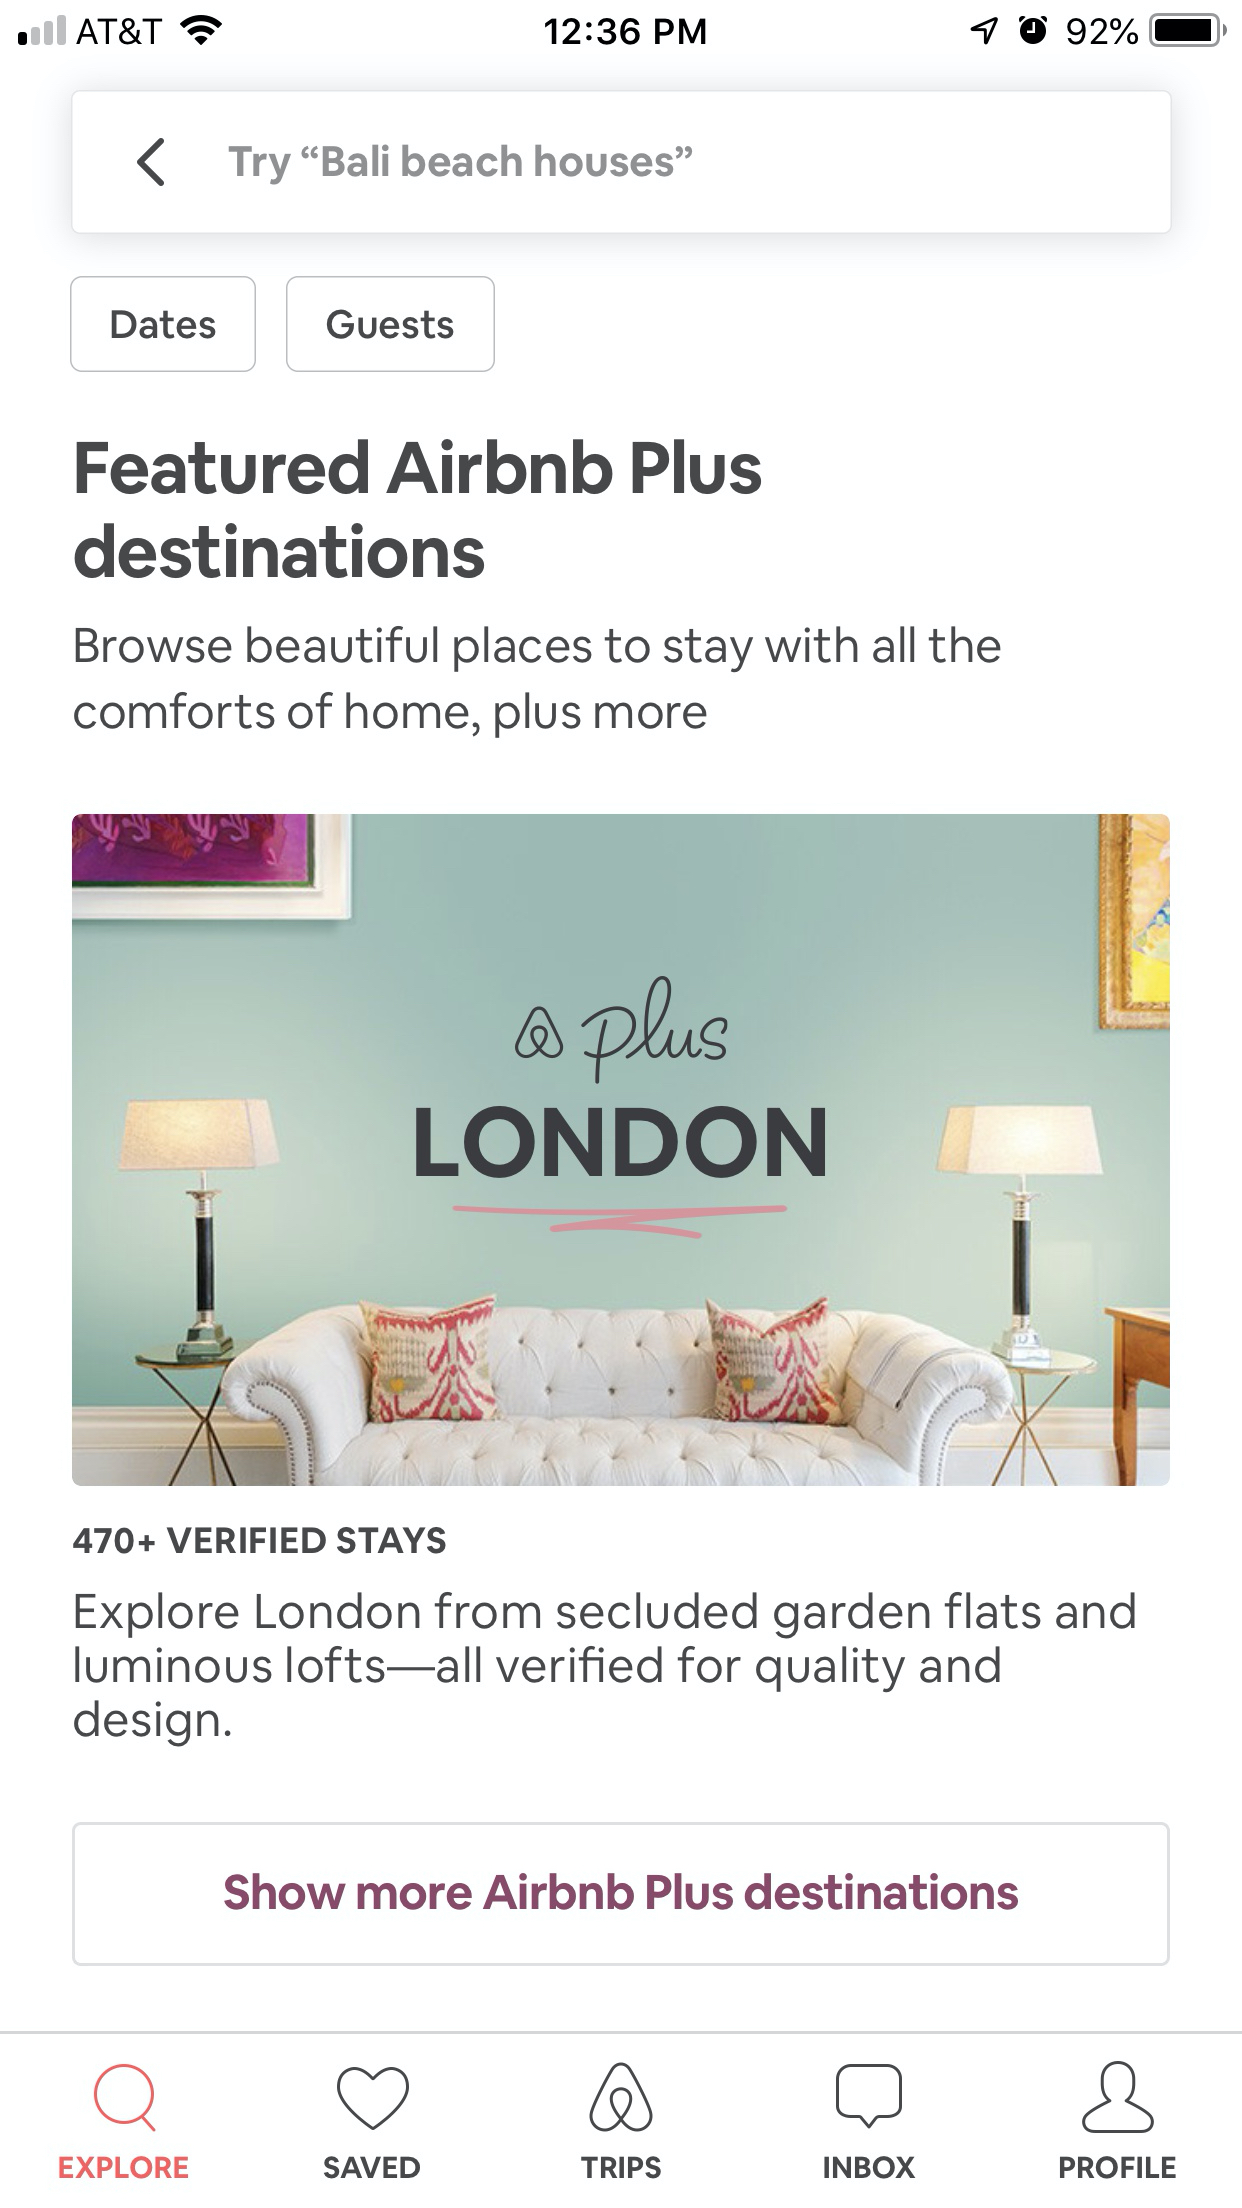EditText: (71, 91, 1174, 237)
Icon: (1081, 2061, 1156, 2134), (337, 2067, 409, 2131), (836, 2064, 902, 2131), (96, 2064, 158, 2134), (136, 138, 165, 188)
Image: (73, 814, 1171, 1488), (588, 2062, 654, 2134)
Text: (74, 1592, 1136, 1749), (74, 626, 1002, 739), (74, 438, 763, 579), (227, 146, 693, 187), (73, 1527, 447, 1554), (59, 2155, 190, 2179), (1059, 2155, 1175, 2179), (823, 2155, 916, 2179), (325, 2156, 422, 2179), (581, 2155, 663, 2179)
TextButton: (73, 1821, 1171, 1967), (287, 276, 496, 373), (70, 276, 256, 373)
UpperTaskBar: (2, 2, 1242, 49)
